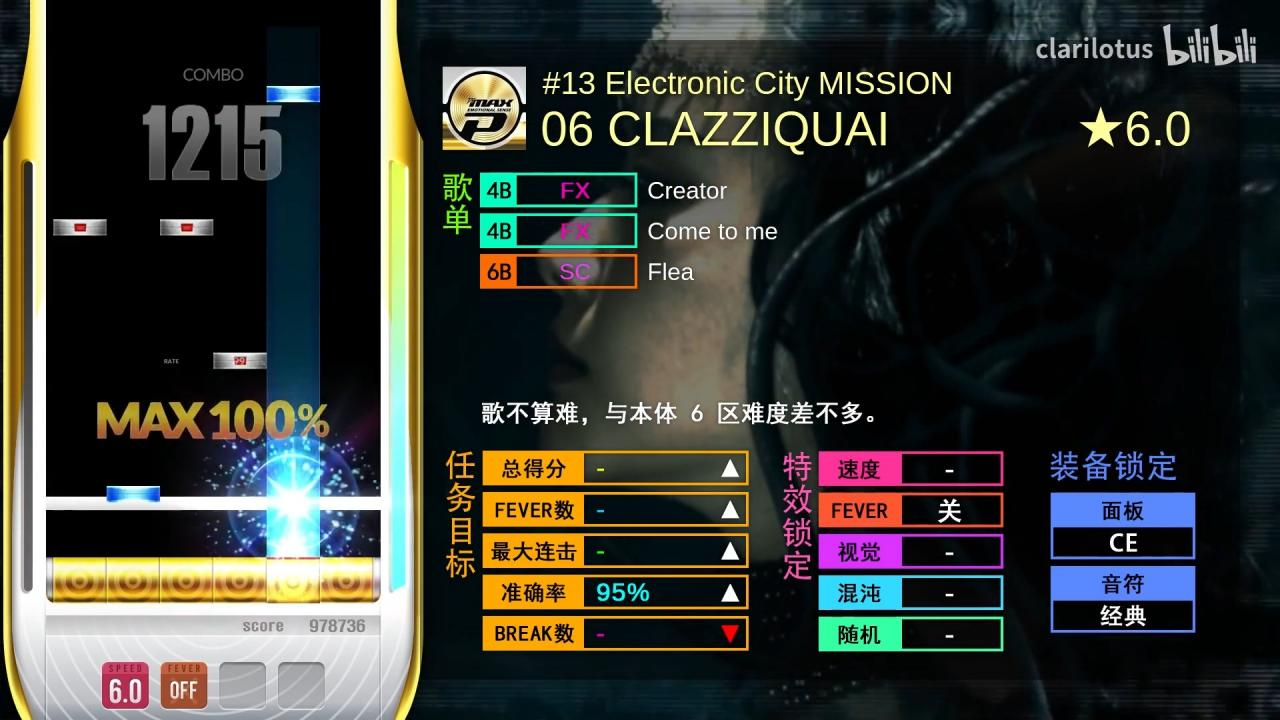note: (159, 218, 214, 236), (53, 218, 107, 236), (213, 352, 267, 370), (106, 486, 160, 503), (267, 86, 320, 102)
